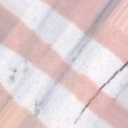crackTip: (68, 59, 127, 127)
